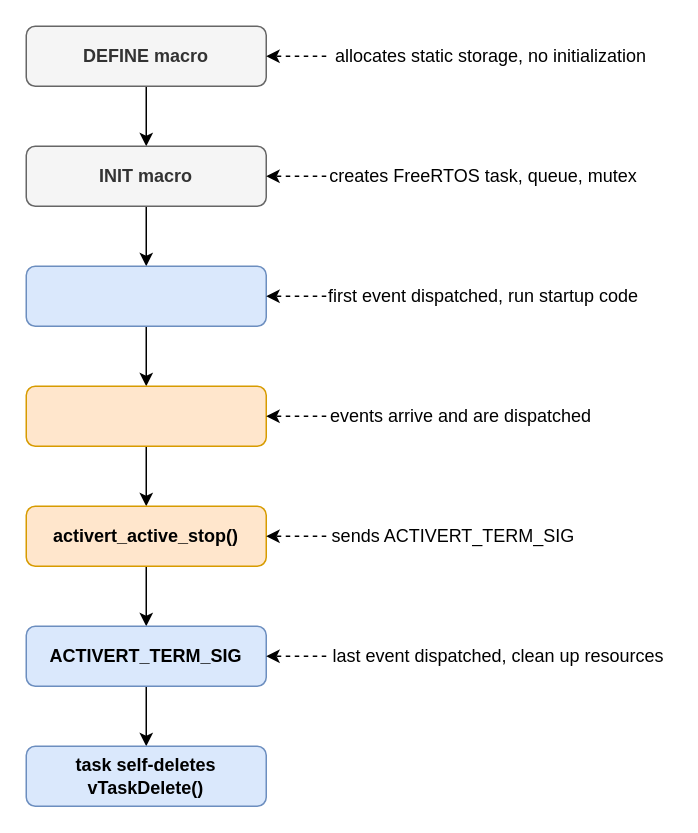
The diagram is 698 pixels wide and 833 high, and some of its shapes have lost their labels. The centre of each missing label's shape, as x and y in pixels:
ACTIVERT_INIT_SIG: (x=145, y=295)
normal operation: (x=145, y=415)
